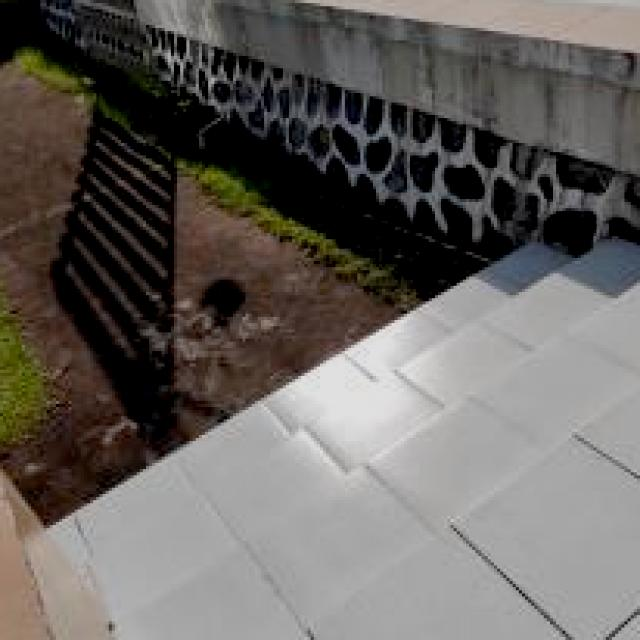downstair: (50, 218, 640, 640)
